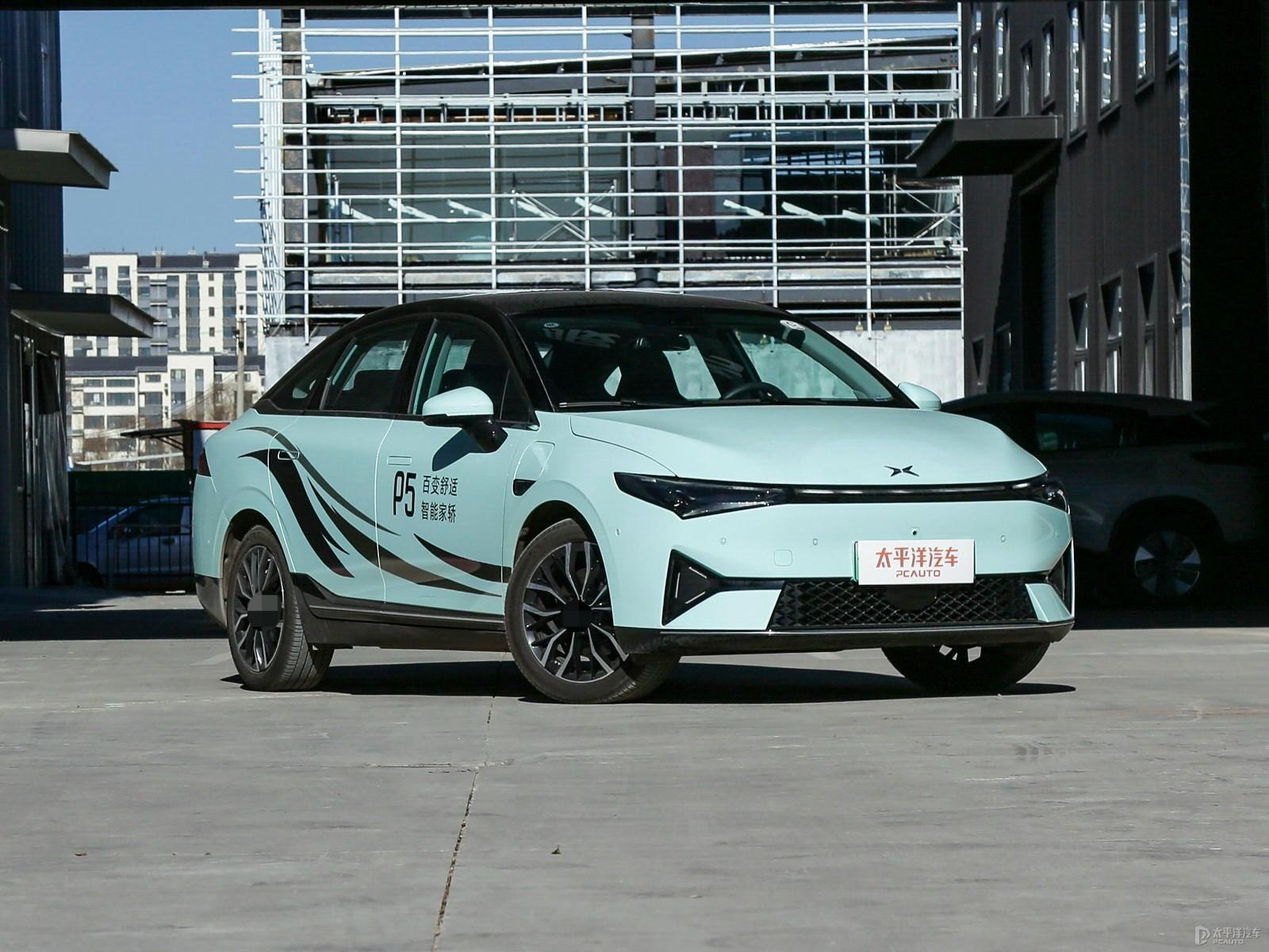XPeng Motors: (884, 465, 920, 477)
